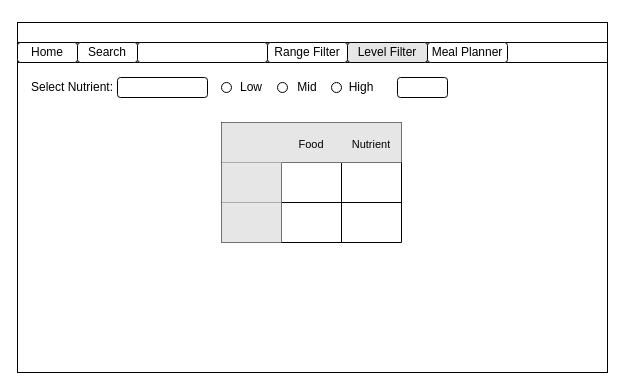
Image size: 625x390. Some labels were removed from this diagram. The shapes that lost their labels are listed below. From the top down, each one's centre as x and y in pixels, then its label:
At [202,52]: "Nutritional Breakdown".
At [312,32]: "Nutrition Database".
At [422,87]: "Enter".
